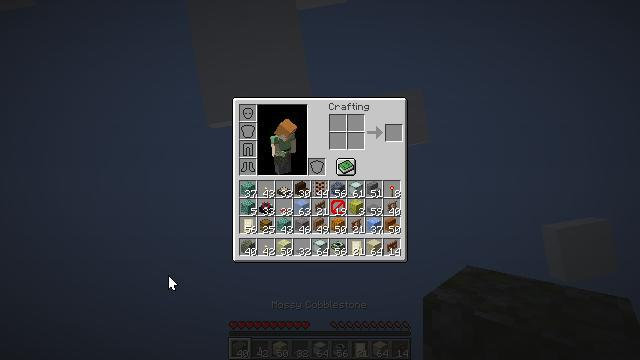cursor: (168, 275, 178, 291)
